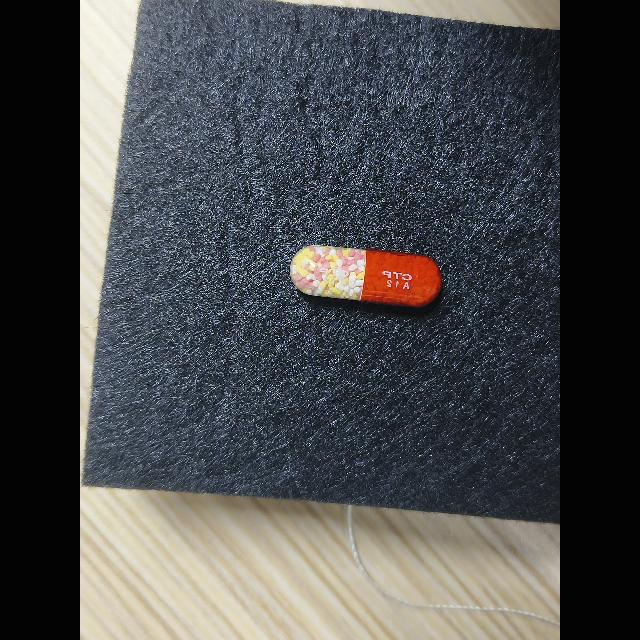Intact Capsule: (290, 245, 442, 307)
